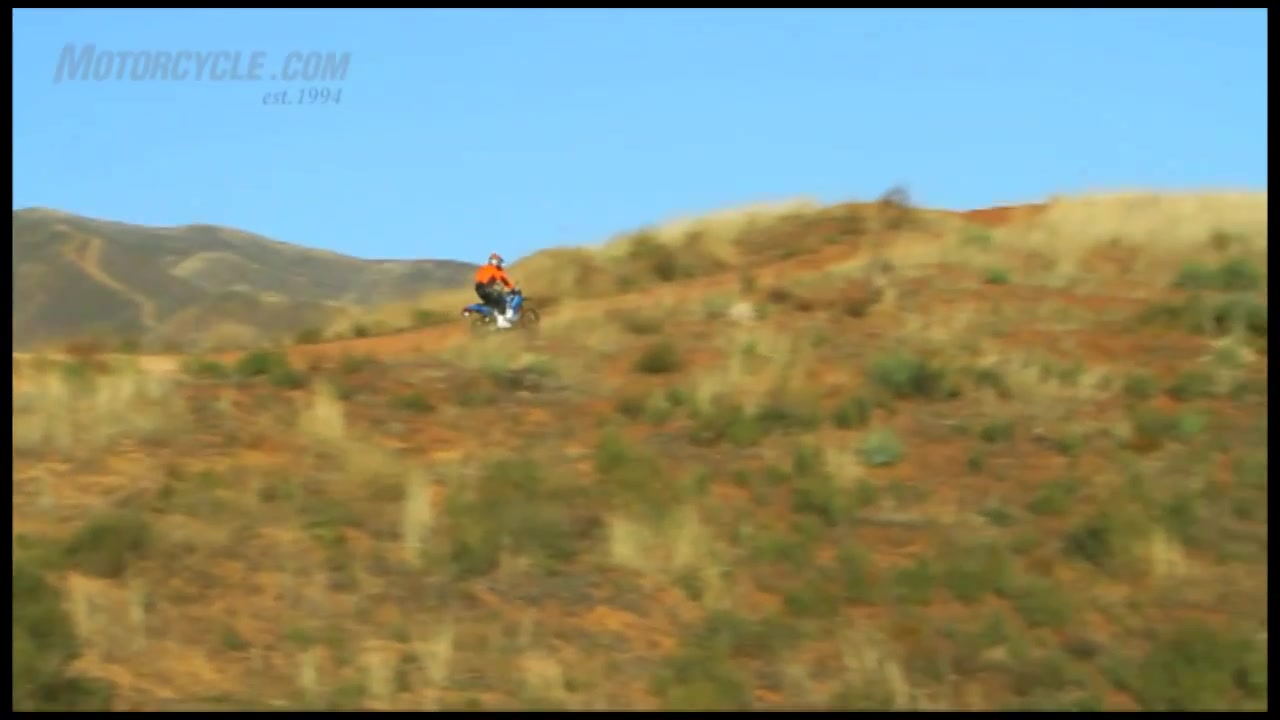motorbike: (464, 285, 543, 337)
